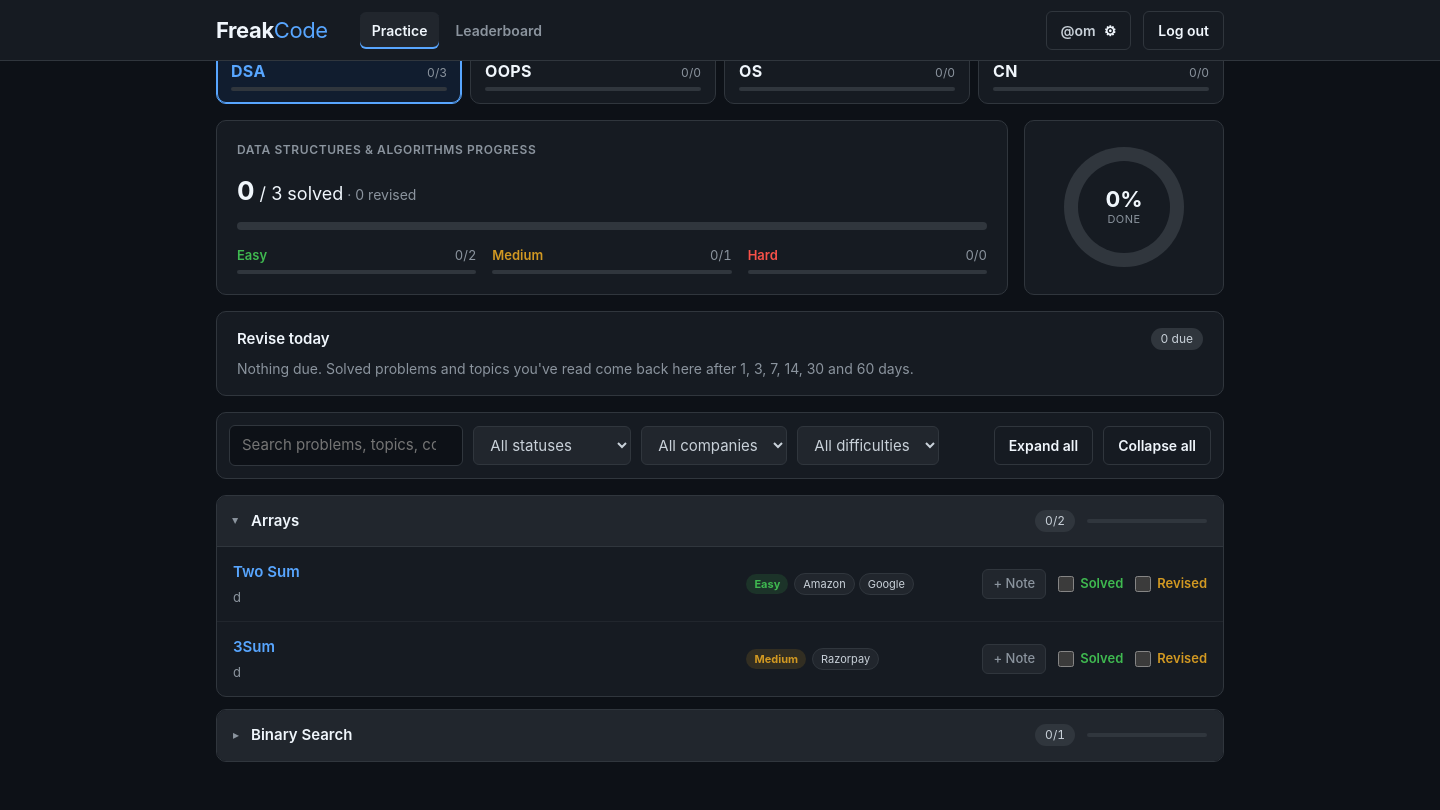
Test: toggling a checkbox saves with PUT and rolls back on failure
(page scrolled)
Click the checkbox labelled "Solved" in the row of "Two Sum" at (1066, 584), box [1058,576,1074,592]
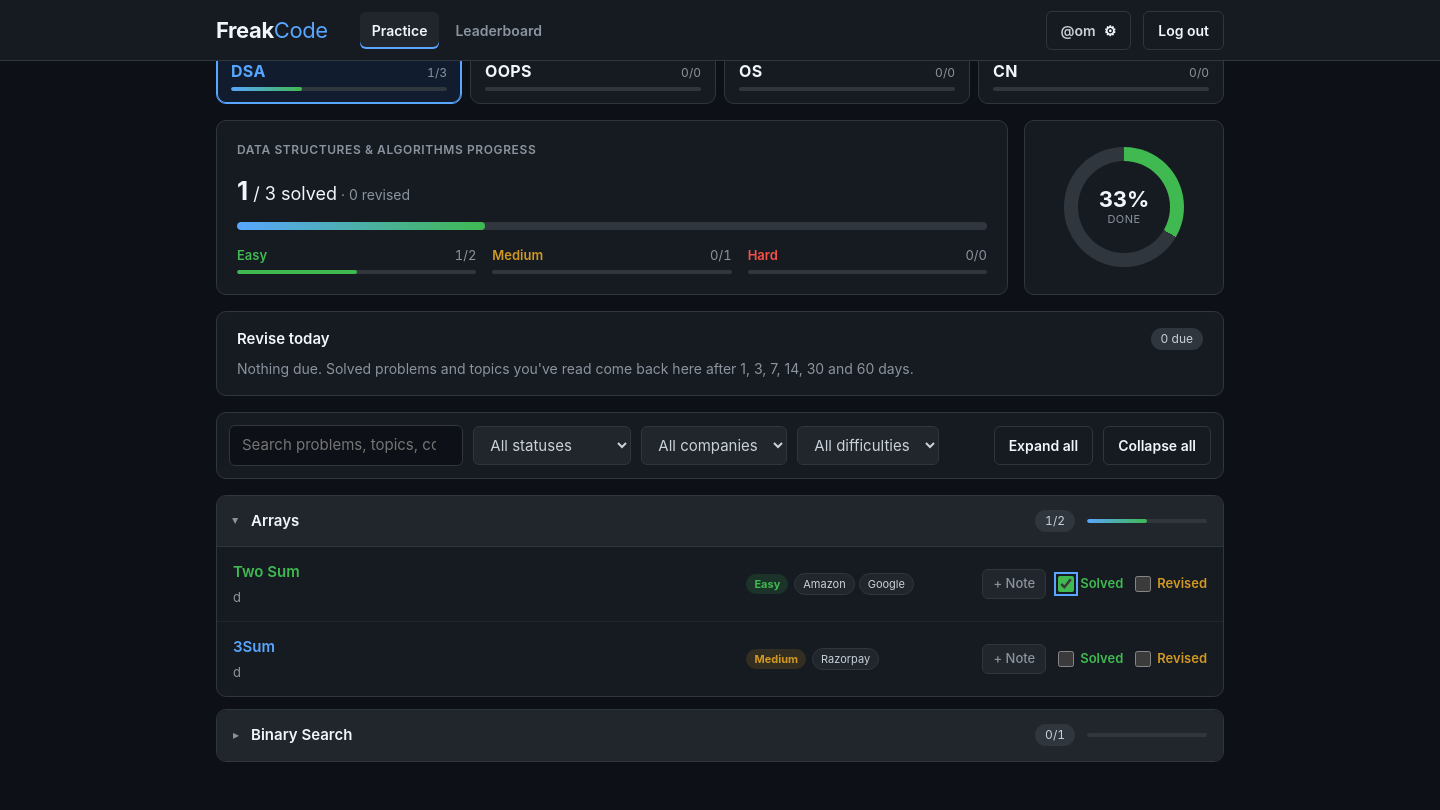
Now the checkbox labelled "Solved" in the row of "Two Sum" is checked, box [1058,576,1074,592]
Click the checkbox labelled "Revised" in the row of "Two Sum" at (1143, 584), box [1135,576,1151,592]
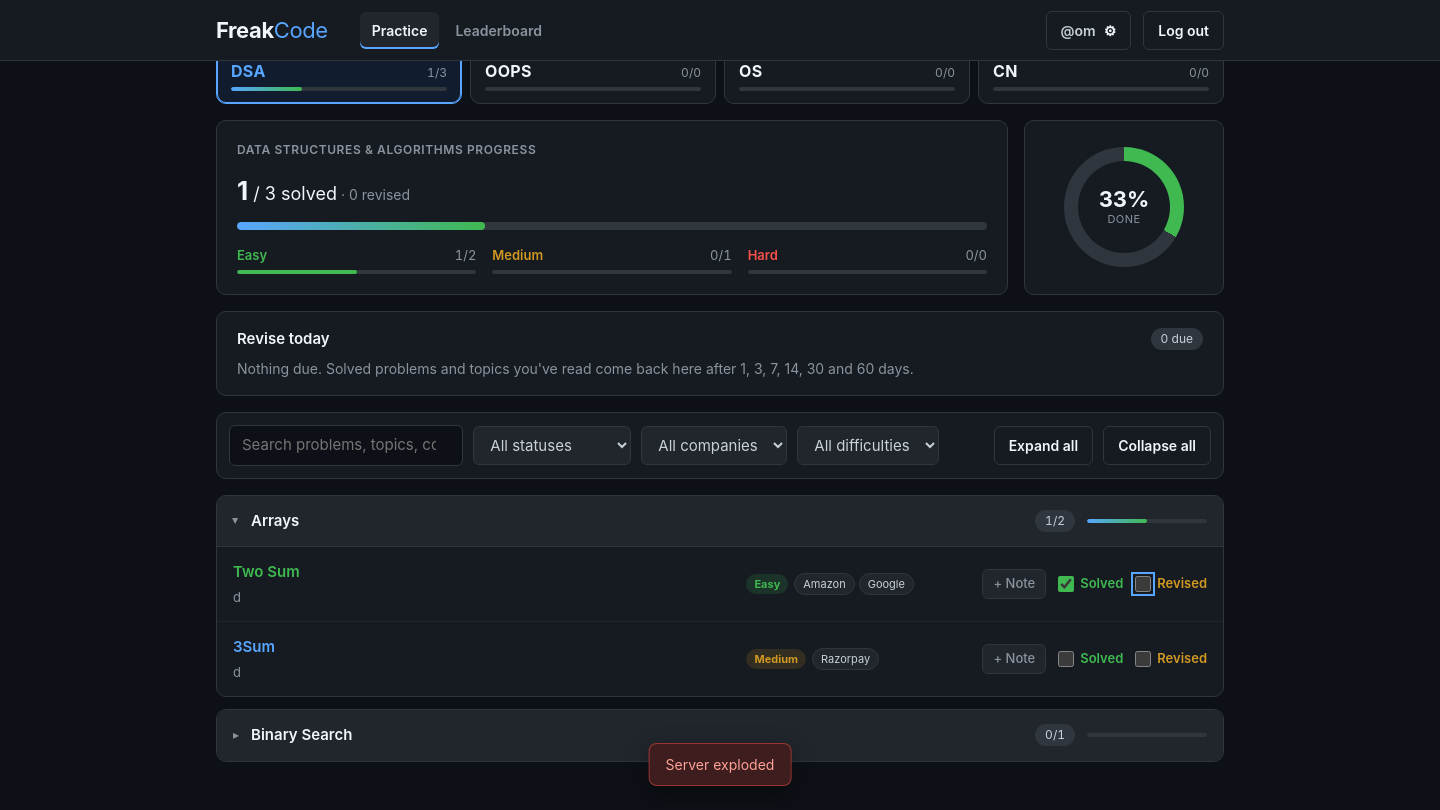
Now the message reads "Server exploded", box [666,756,774,773]
